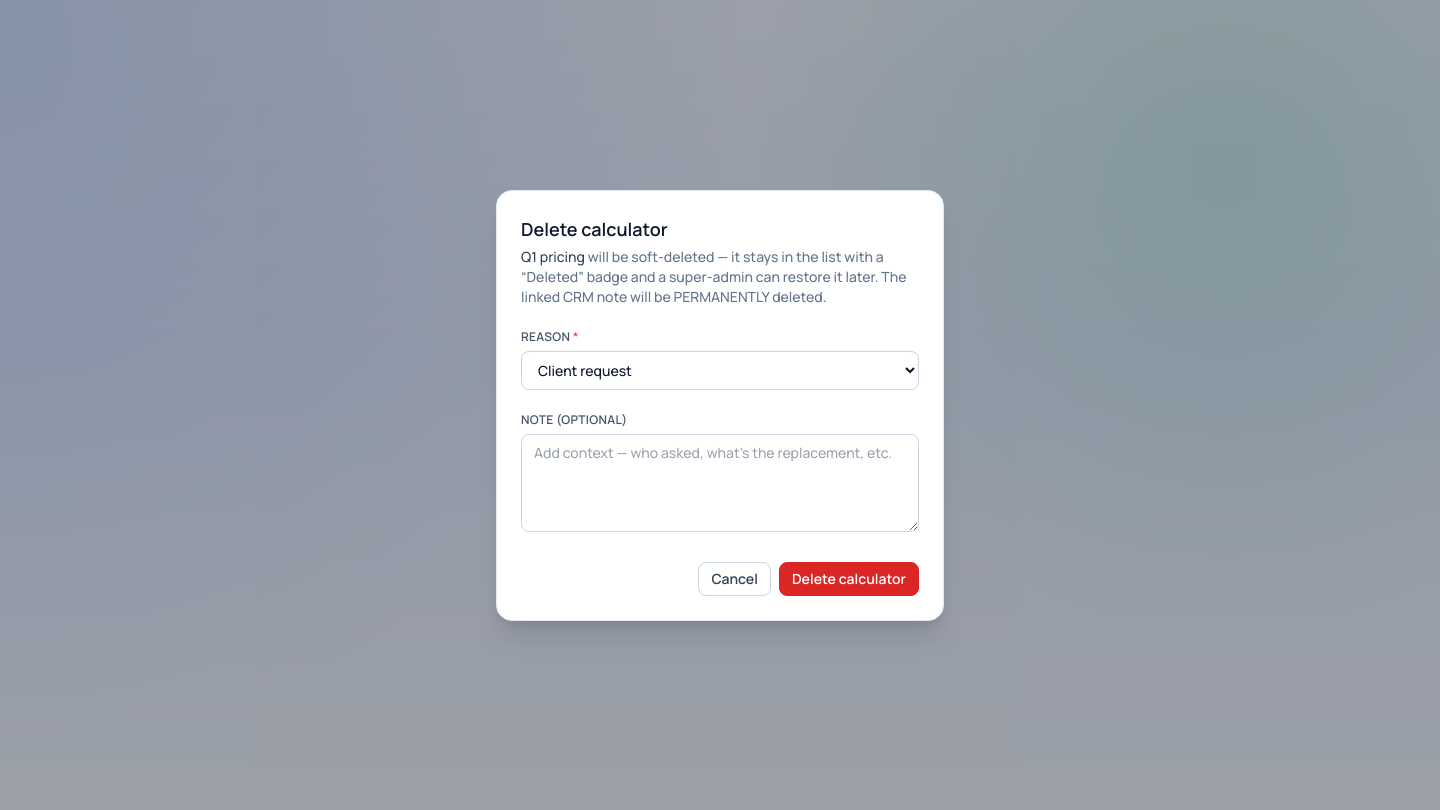
Test case: DeleteCalculatorModal — server errors › surfaces HUBSPOT_UNREACHABLE with retry hint
Click the button "Delete calculator" at [849, 578], box left=779, top=562, right=919, bottom=596
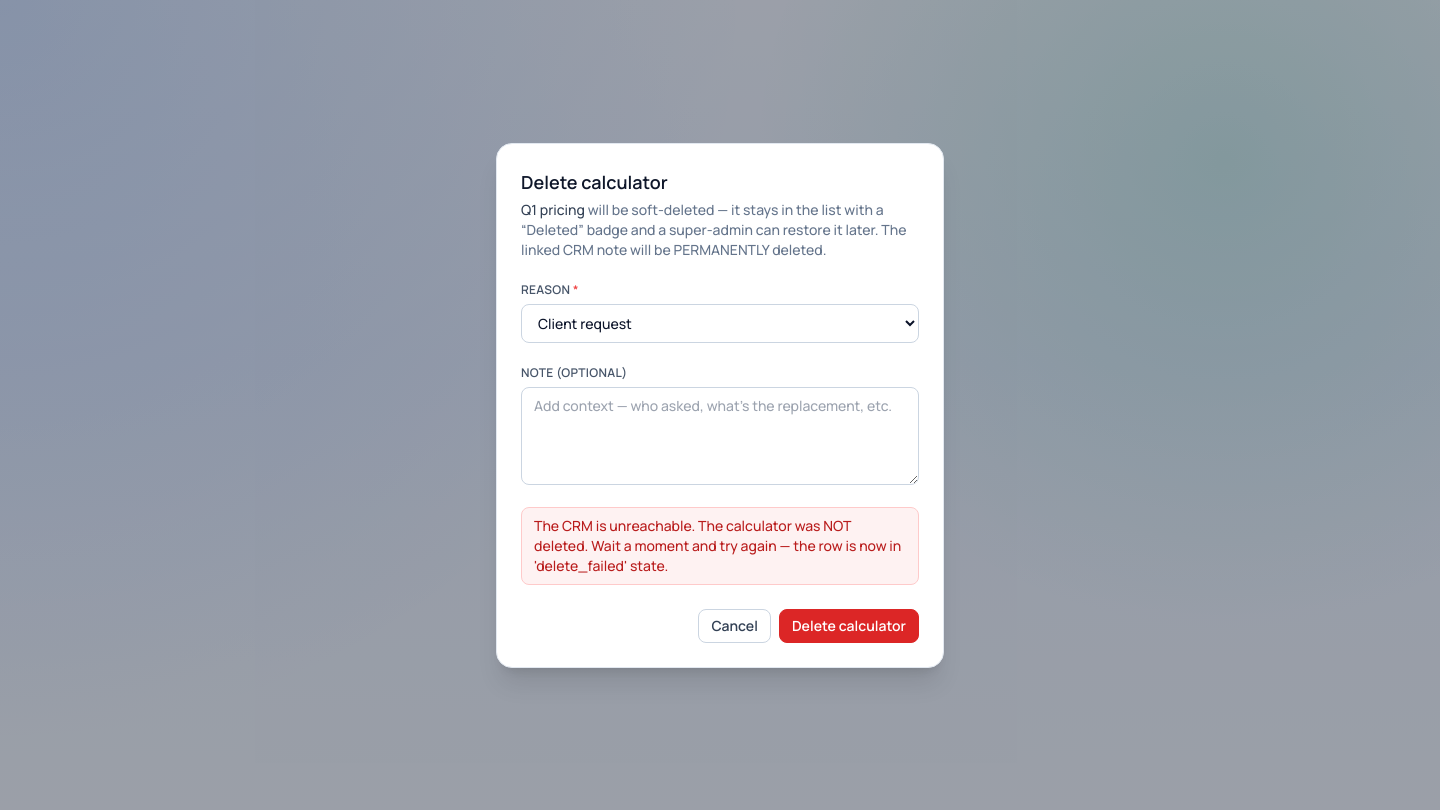
Check: the text "CRM is unreachable" is shown, box left=534, top=516, right=901, bottom=574
